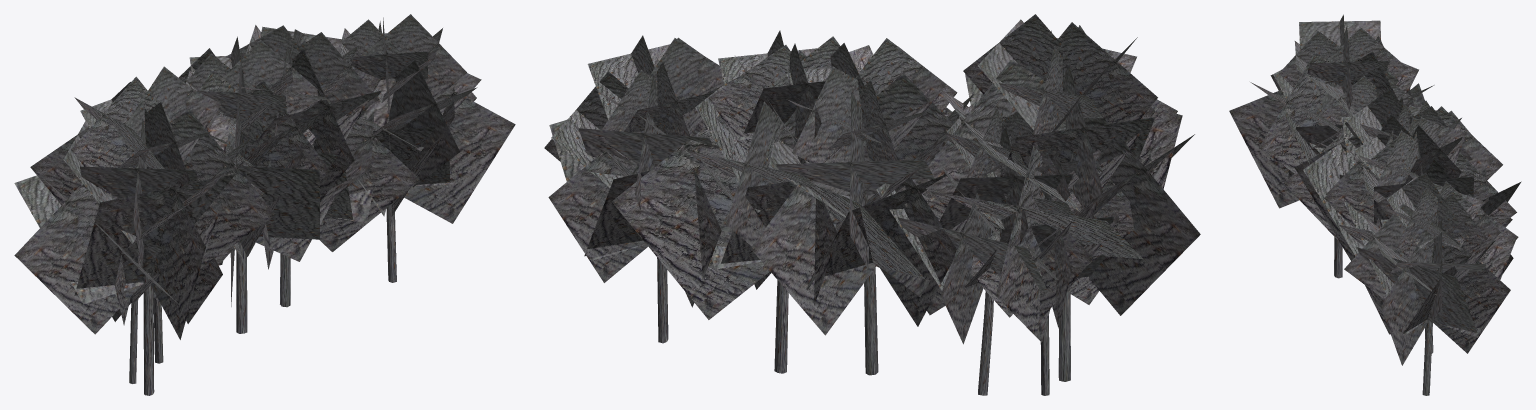
File: bihokutree.glb
3 renders of one model, left to right at view 1: azimuth 30°, elevation 25°; view 2: azimuth 150°, elevation 25°; view 3: azimuth 270°, elevation 25°, orthographic. The views are drawn at different scales.
Parts seen in each view (by area): view 1: bihokutree; view 2: bihokutree; view 3: bihokutree.
Part boxes in pixels (x1,y1,x2,y2): bihokutree: [14, 14, 515, 395]; bihokutree: [544, 14, 1200, 395]; bihokutree: [1229, 14, 1521, 395].
Bounding box in the file's own units: 27.04 × 15.9 × 16.19.
Materials: 1 (1 with a texture image).
